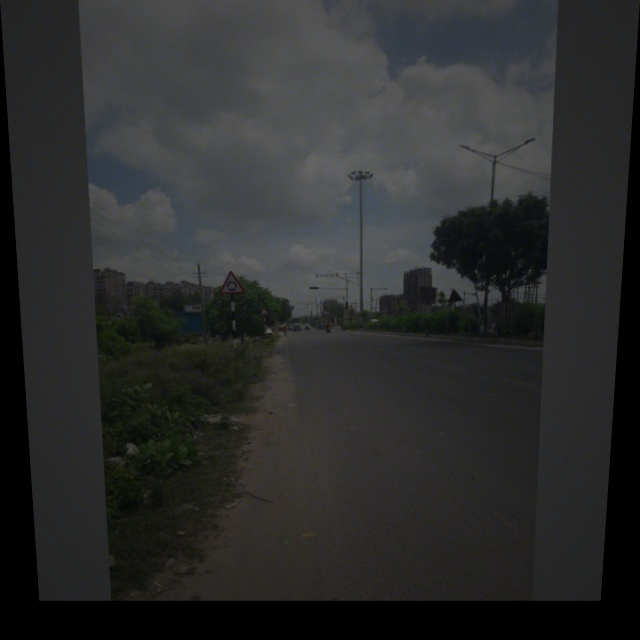Round_About: (215, 267, 249, 298)
